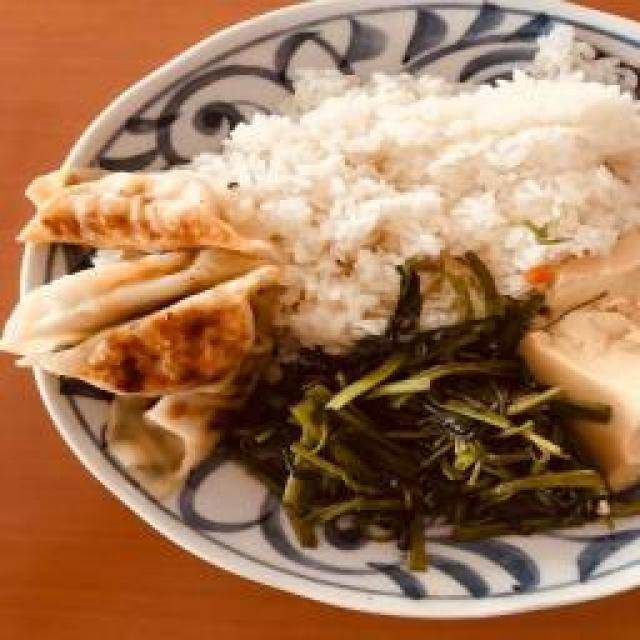fried_dumplings: (33, 168, 236, 378)
rice: (270, 80, 640, 330)
water_spinach: (308, 337, 531, 525)
